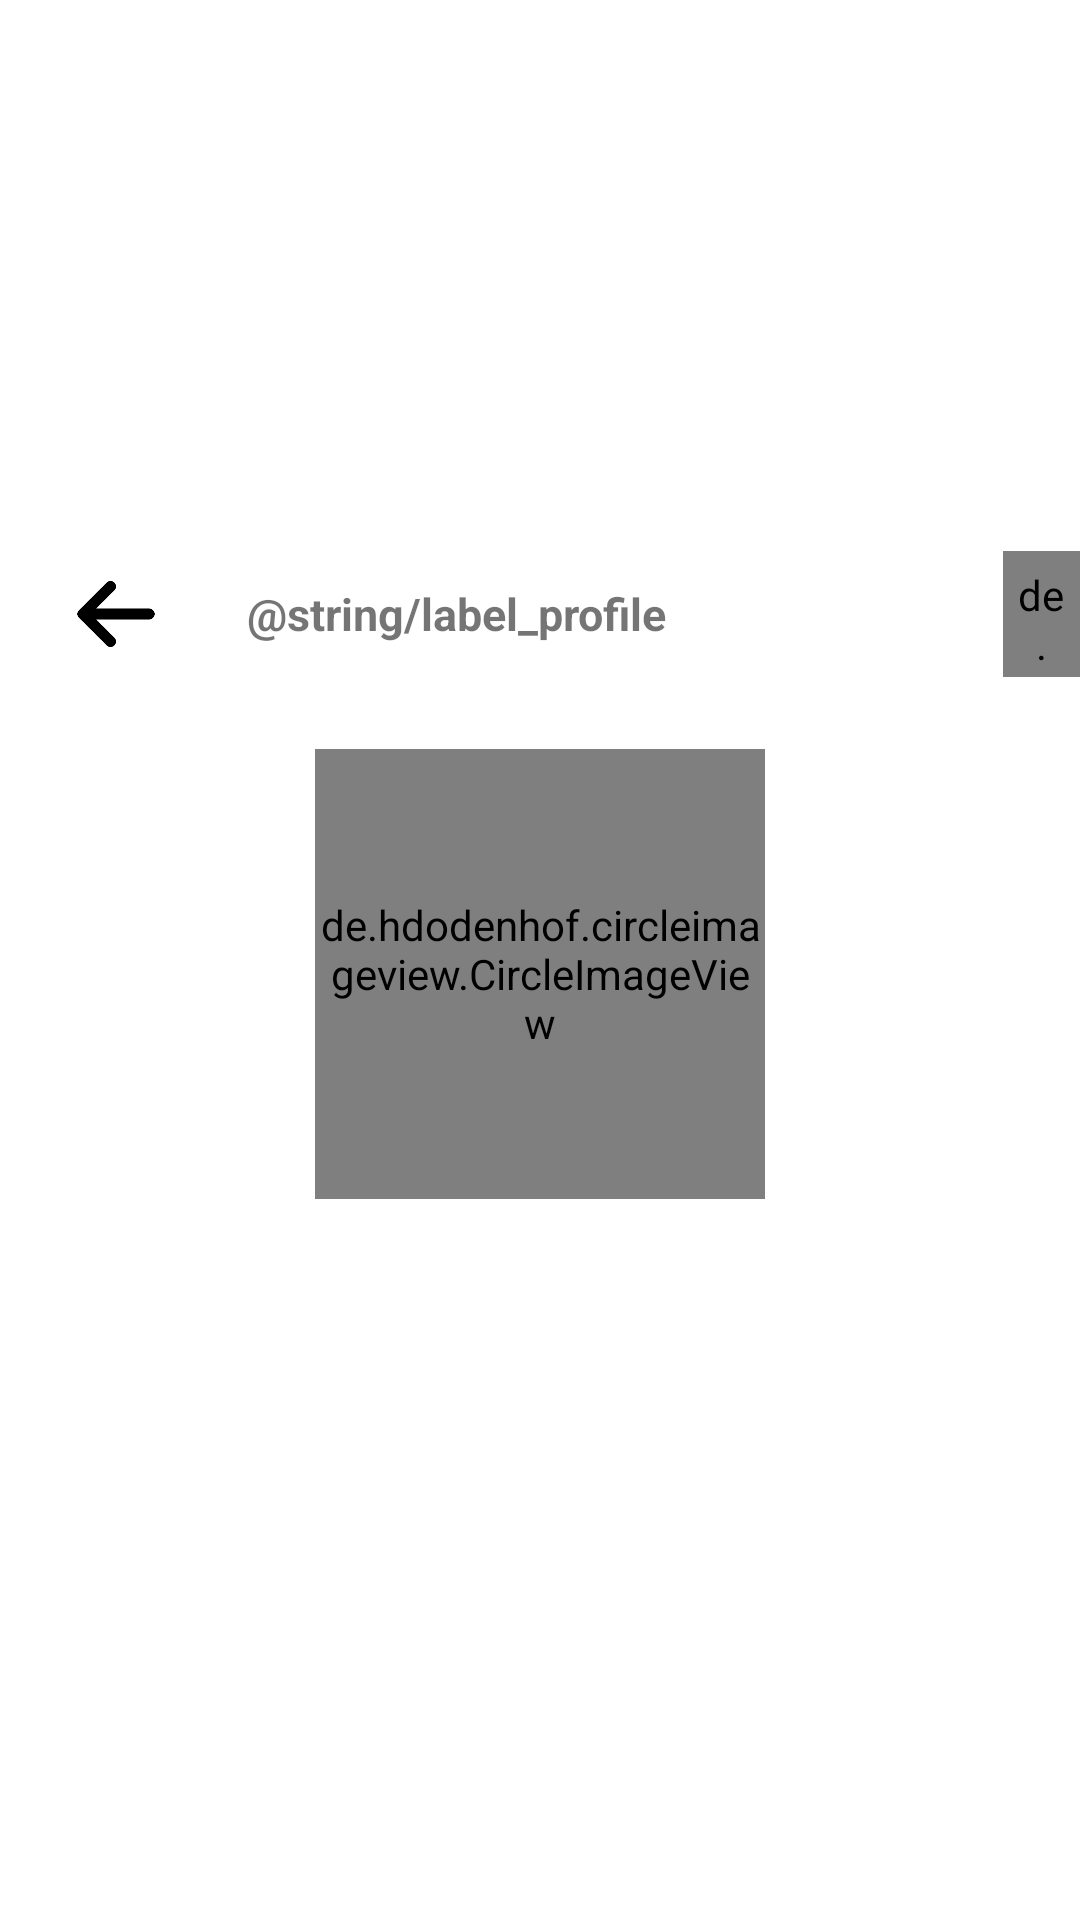

Screen size 1080px×1920px. Icon name, then its center in pixels as [x,y]:
arrow: [116,614]
